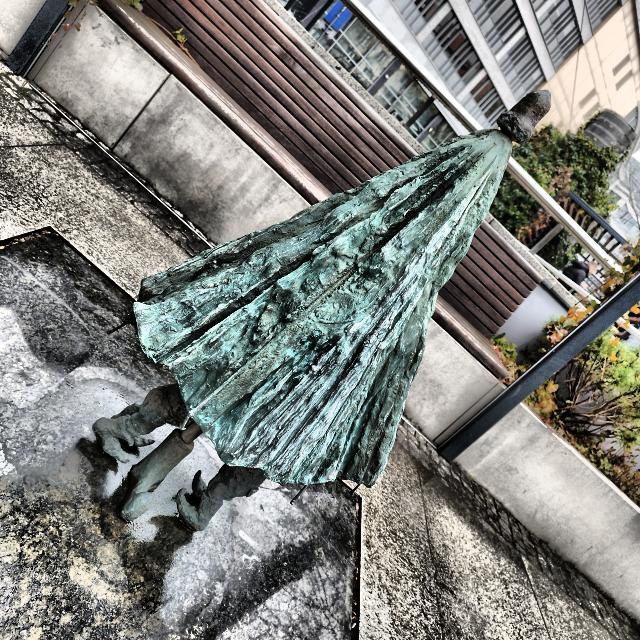Parasolniki: (92, 89, 552, 530)
